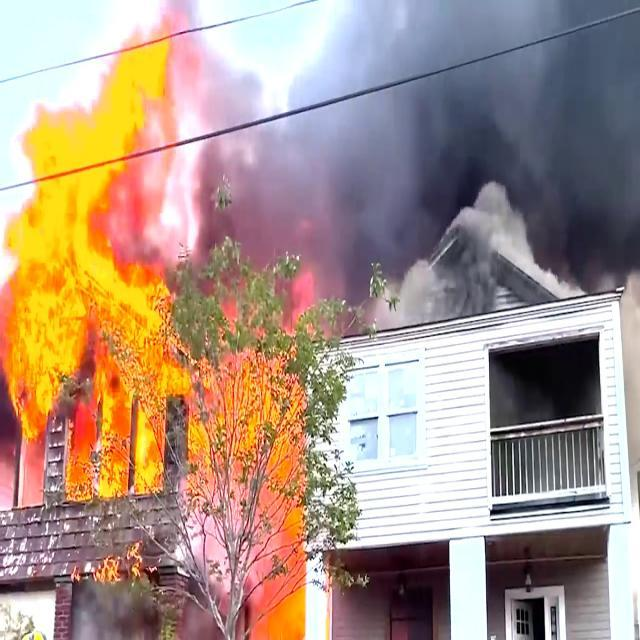Fire: (0, 23, 164, 491), (201, 317, 298, 640)
Smoke: (215, 0, 640, 238)
